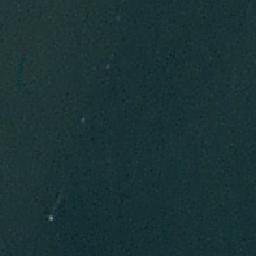debris: (45, 212, 56, 224), (77, 115, 86, 126), (104, 61, 111, 71), (116, 15, 122, 22)
